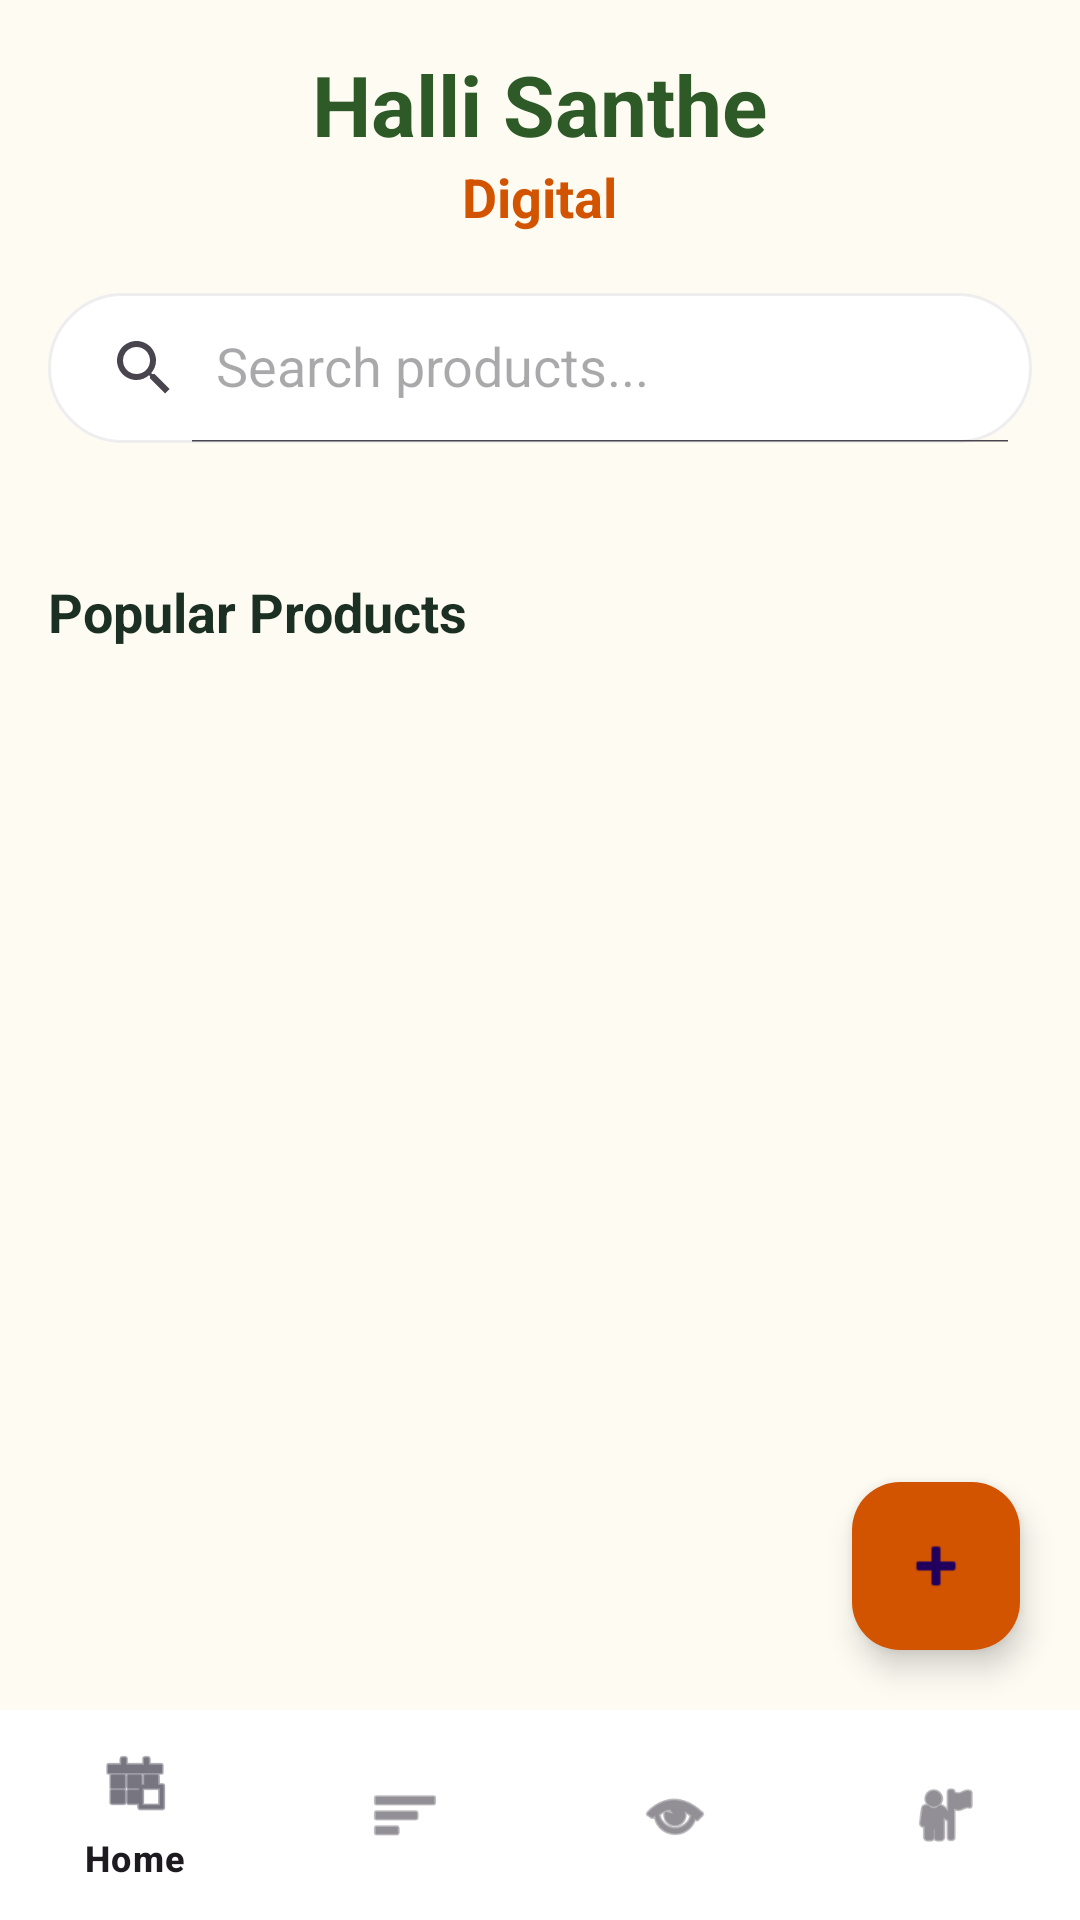

Point at icon controls on the screen. Image size 1080 x 1920, points as point (x, y).
add: point (936, 1566)
